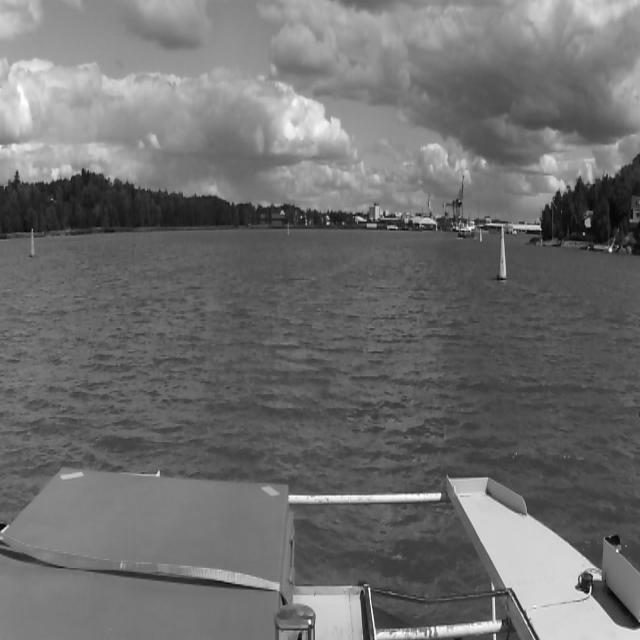buoy: (498, 225, 508, 281), (30, 228, 36, 257), (480, 226, 483, 242)
ship: (458, 218, 478, 244)
